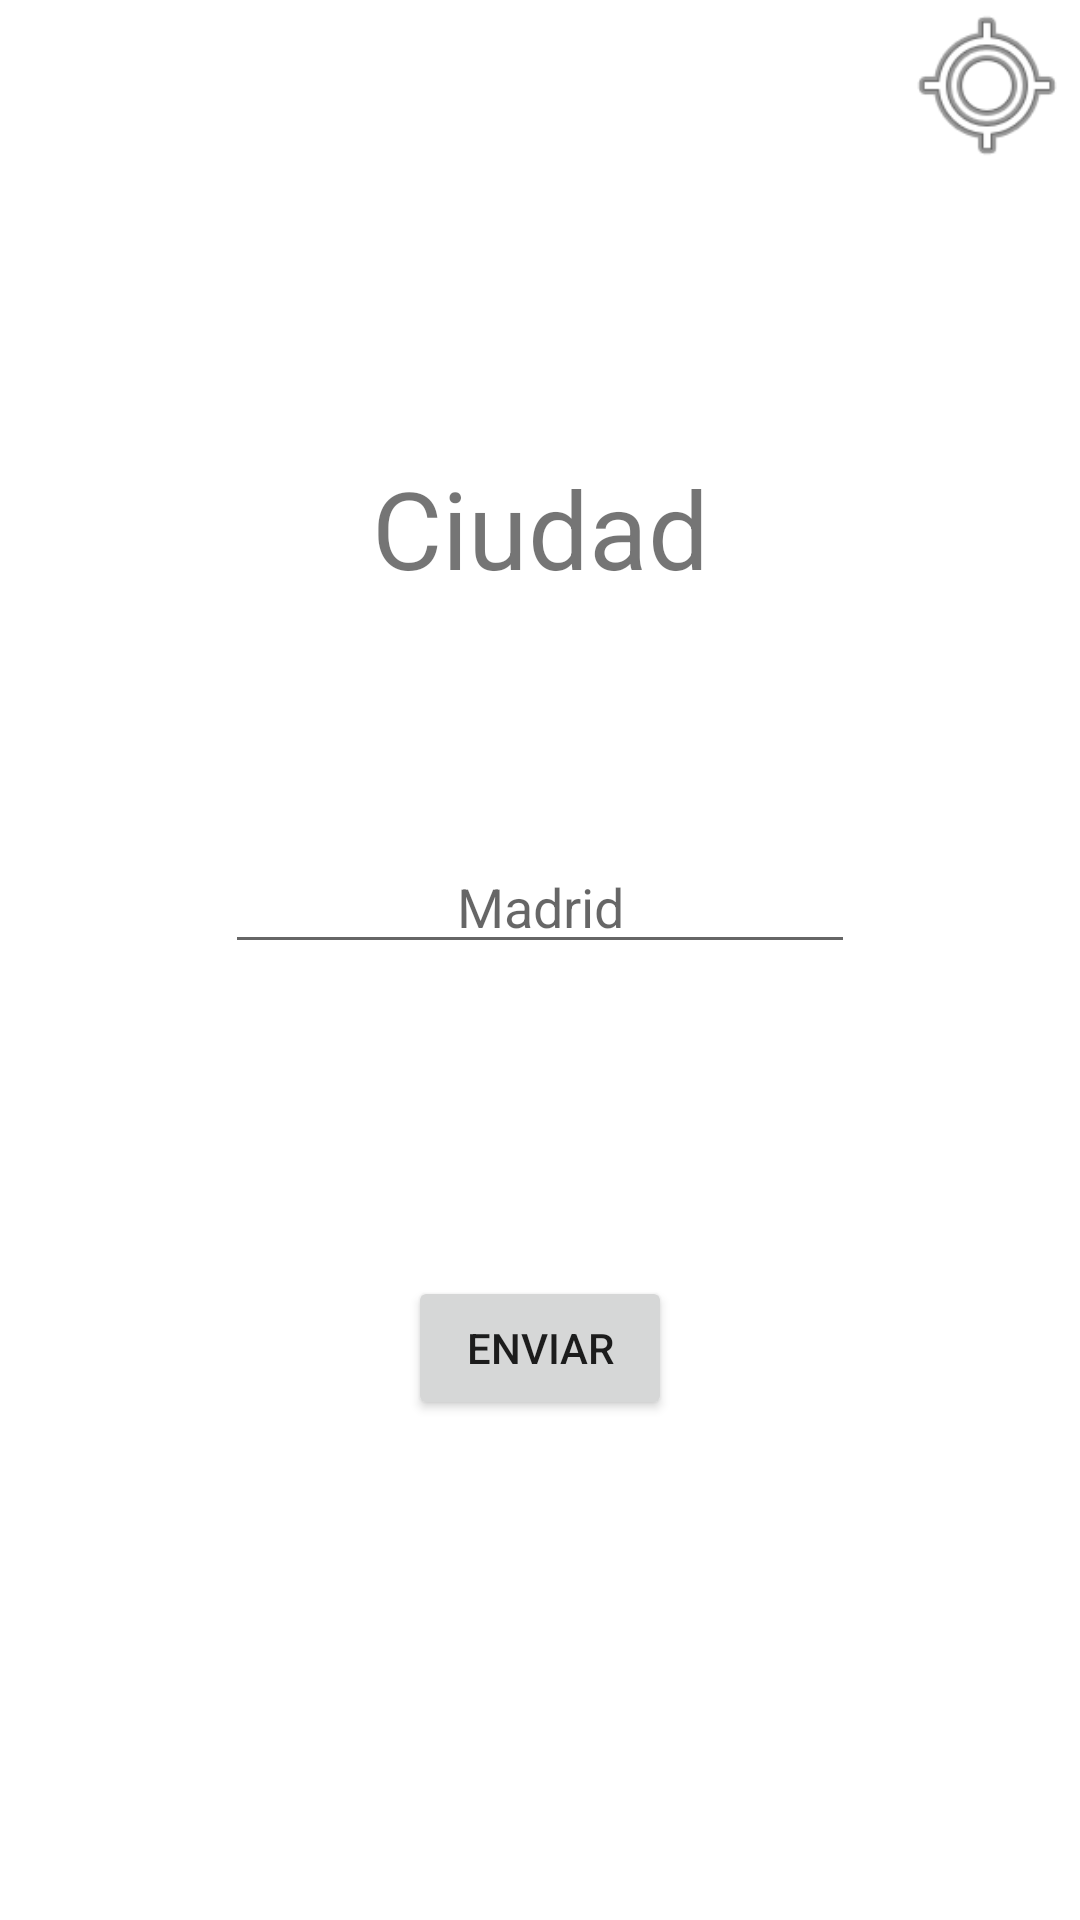

Named icons in this screenshot (1080px x 1920px) and their bounding boxes, (x1, y1, x2, y2):
mylocation: (918, 17, 1056, 154)
